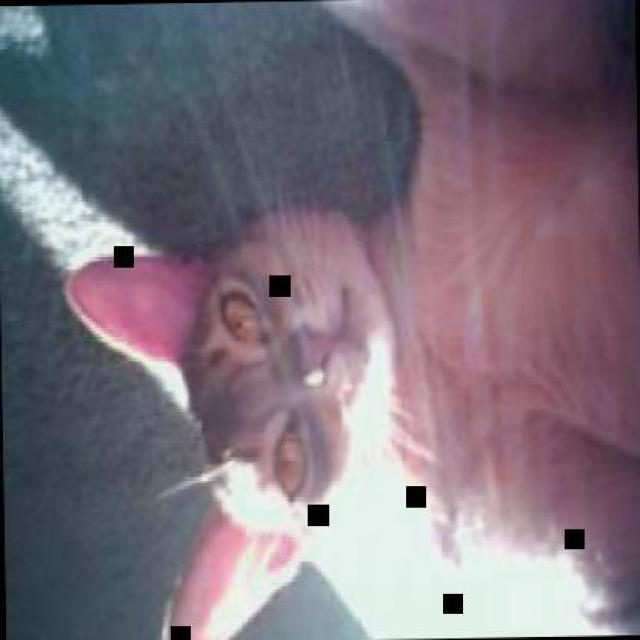cat: (60, 99, 638, 638)
